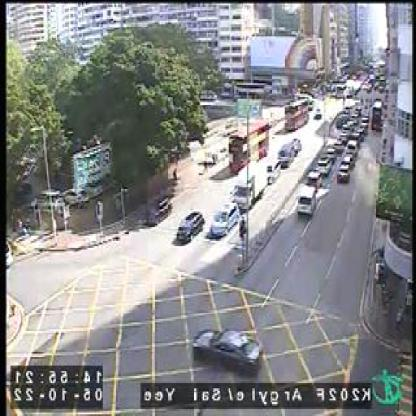Bus: (229, 119, 270, 172), (285, 97, 309, 132), (372, 101, 386, 130)
Car: (192, 329, 264, 371), (233, 163, 266, 208), (212, 201, 240, 238), (177, 209, 205, 242), (297, 186, 318, 213), (264, 159, 279, 184), (279, 144, 294, 165), (318, 154, 332, 175), (338, 163, 352, 180), (307, 170, 322, 184), (292, 135, 303, 154), (347, 138, 360, 150), (326, 148, 337, 162), (333, 140, 343, 151), (350, 134, 362, 142), (346, 153, 357, 161), (342, 125, 352, 133), (351, 114, 359, 123), (340, 134, 348, 142), (356, 104, 363, 113), (363, 118, 369, 126)
